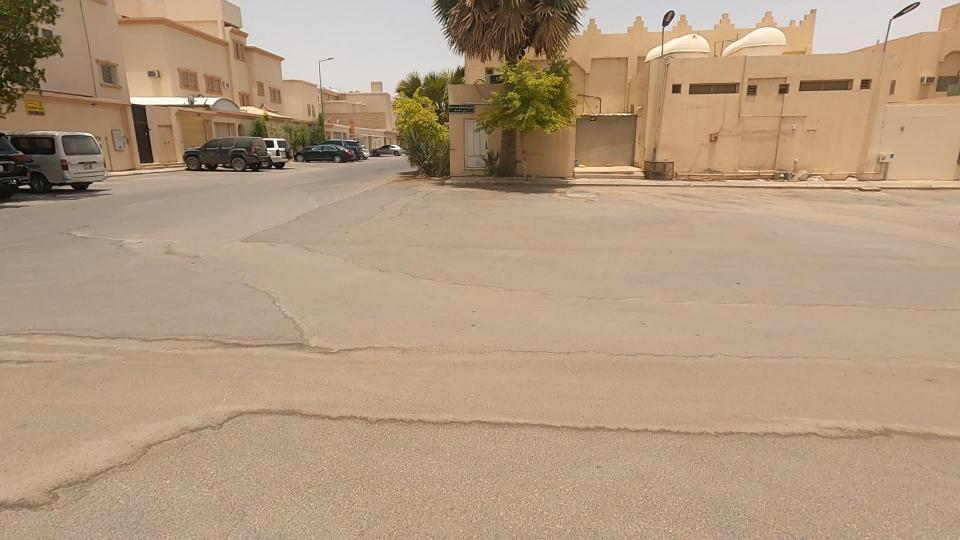GARBAGE: (733, 138, 837, 214)
